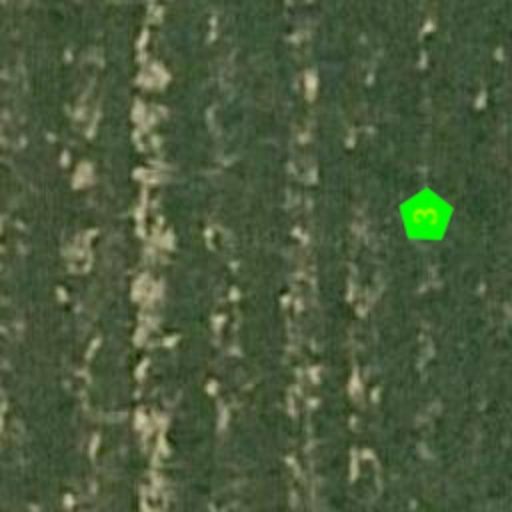pentagon: (394, 184, 458, 248)
